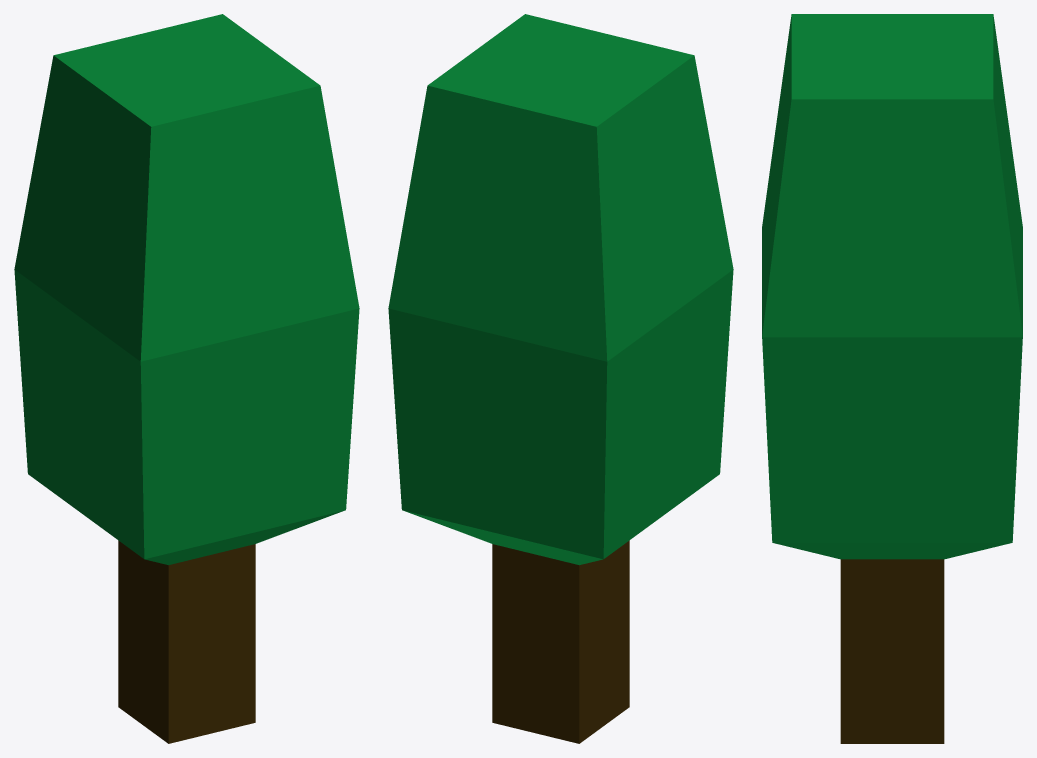
Rendered from Arbol2.fbx.
3 views of the same model, side by side, from view 1: azimuth 30°, elevation 25°; view 2: azimuth 150°, elevation 25°; view 3: azimuth 270°, elevation 25° (orthographic). The views are drawn at different scales.
Parts seen in each view (by area): view 1: Arbol1; view 2: Arbol1; view 3: Arbol1.
Part boxes in pixels (x1,y1,x2,y2): Arbol1: [14, 14, 359, 743]; Arbol1: [388, 14, 733, 743]; Arbol1: [762, 14, 1022, 743].
Bounding box in the file's own units: 6.41 × 18.04 × 6.41.
